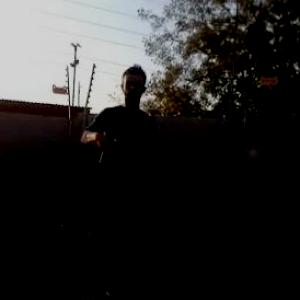follow: (65, 59, 164, 299)
